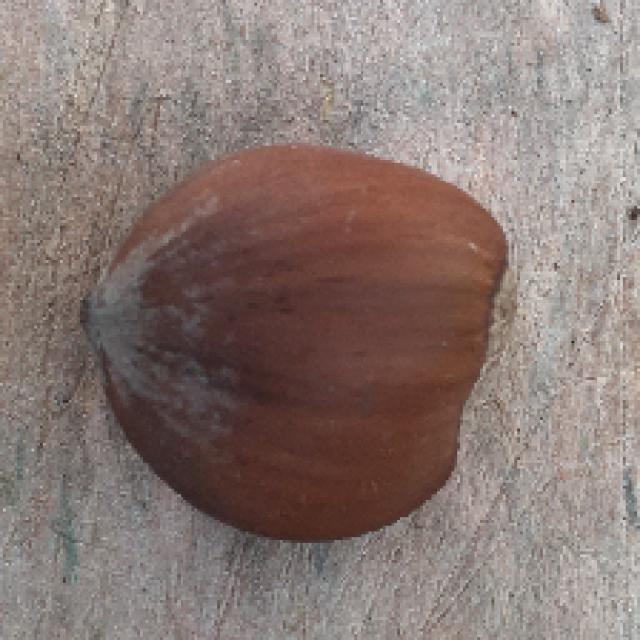qualityHazelnut: (77, 141, 510, 545)
